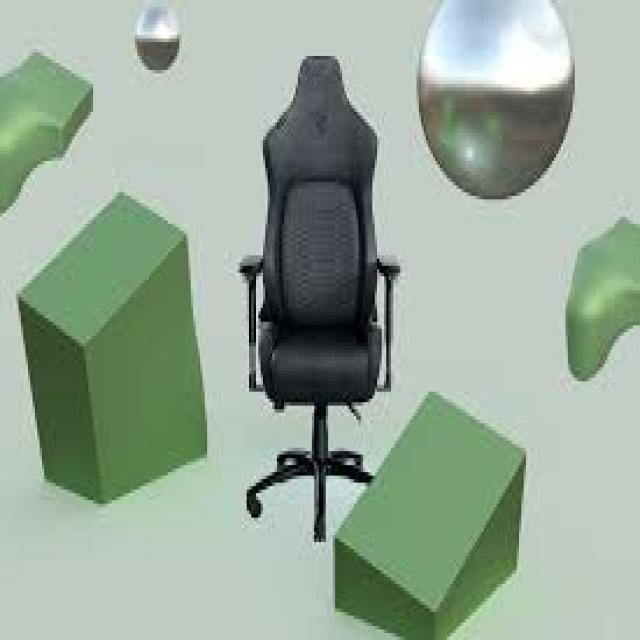chair: (214, 25, 402, 558)
